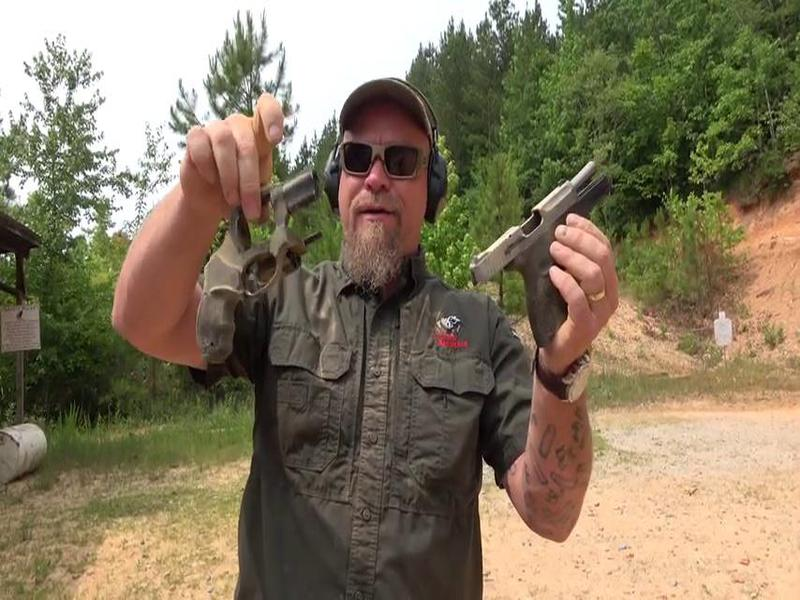Pistola: (465, 154, 630, 362)
Revolver: (171, 169, 335, 369)
